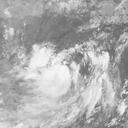cyclone: (21, 43, 79, 103)
